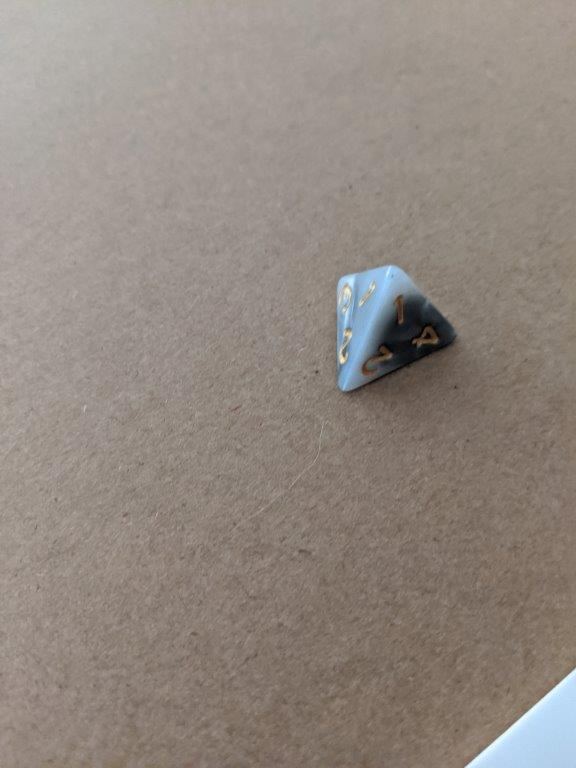d4-1: (332, 261, 459, 404)
